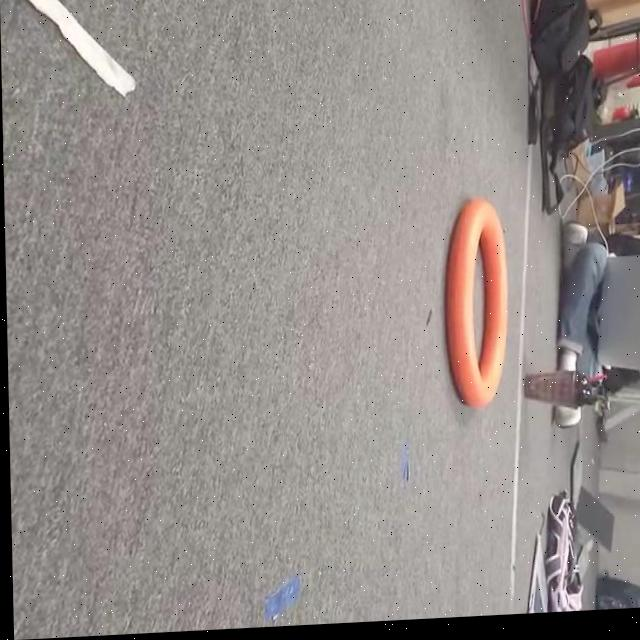note: (435, 196, 514, 418)
